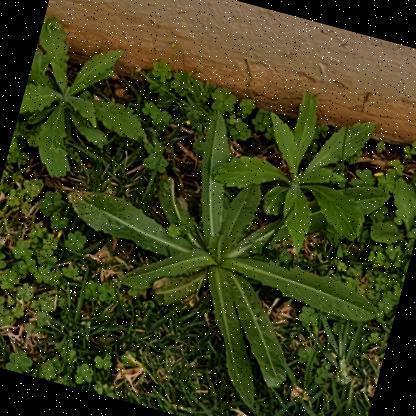Weeds: (25, 78, 415, 415), (198, 71, 395, 268), (5, 14, 171, 199)
